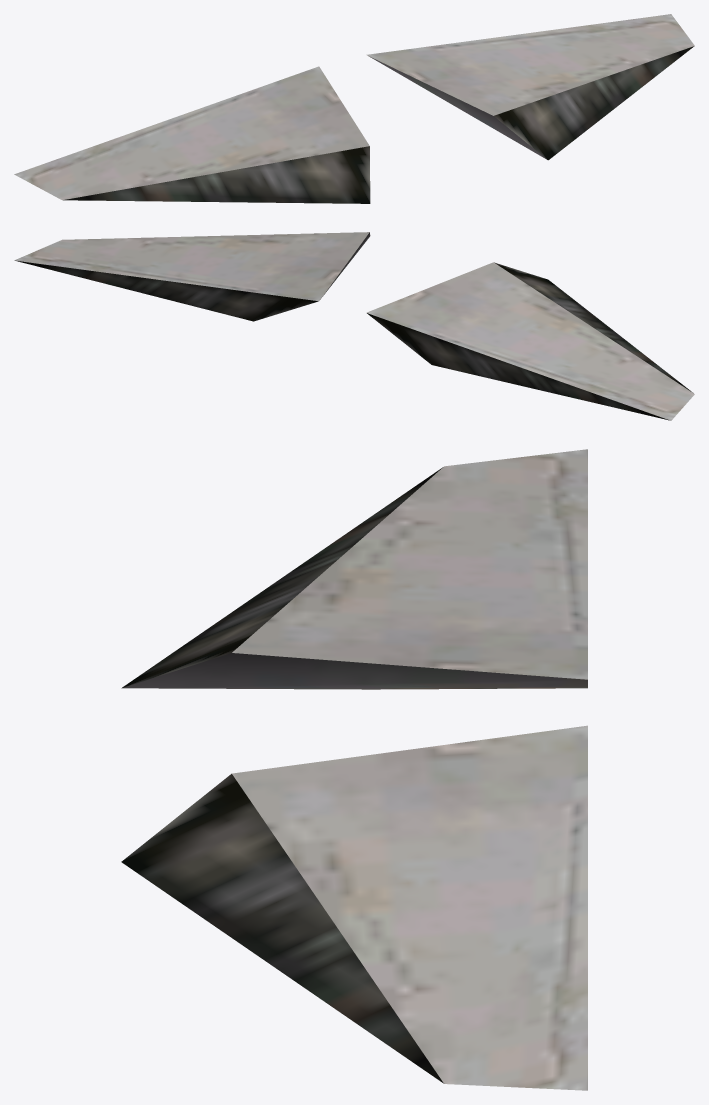
Rendered from hutt_fighter_heavy_struct_s01_l3.fbx.
The picture shows the model from 3 angles, top to bottom: view 1: azimuth 30°, elevation 25°; view 2: azimuth 150°, elevation 25°; view 3: azimuth 270°, elevation 25°; orthographic projection. The views are drawn at different scales.
Visible parts, largest first — view 1: mesh_node; view 2: mesh_node; view 3: mesh_node.
Part boxes in pixels (box(x1,y1,x2,y2)): mesh_node: box(14, 14, 694, 203); mesh_node: box(14, 232, 694, 420); mesh_node: box(121, 449, 587, 1090).
Size of the model in its own units: 28.24 by 1.49 by 8.68.
